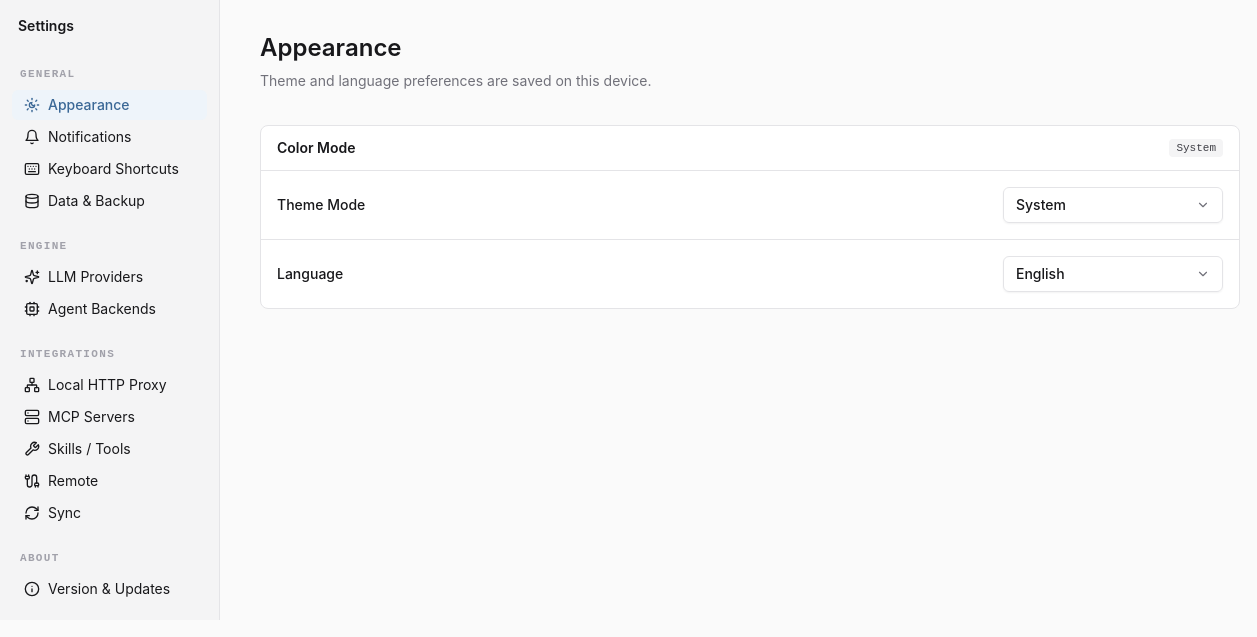
Test: Settings sync nav guard (task 14, R12) › renders the Sync nav item once signed in, and opens the sync panel
Click the button "Sync": (110, 513) [12,498,207,528]
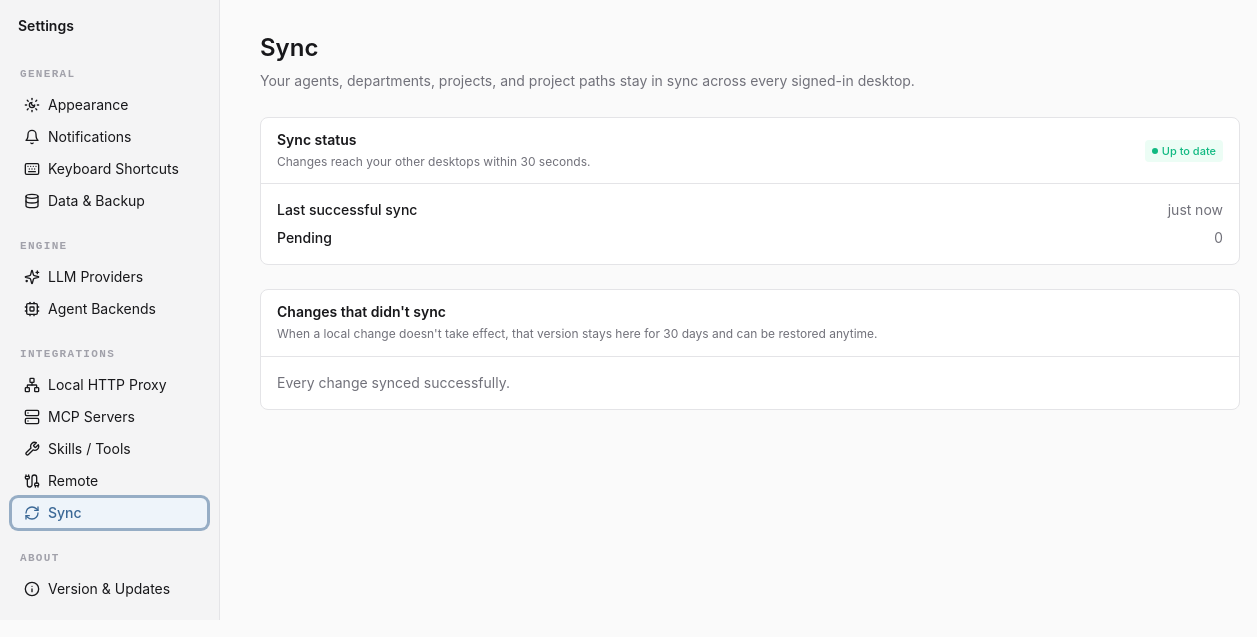
Now the heading "Sync status" is shown, box [277,131,356,148]
Now the heading "Changes that didn't sync" is shown, box [277,303,446,320]
